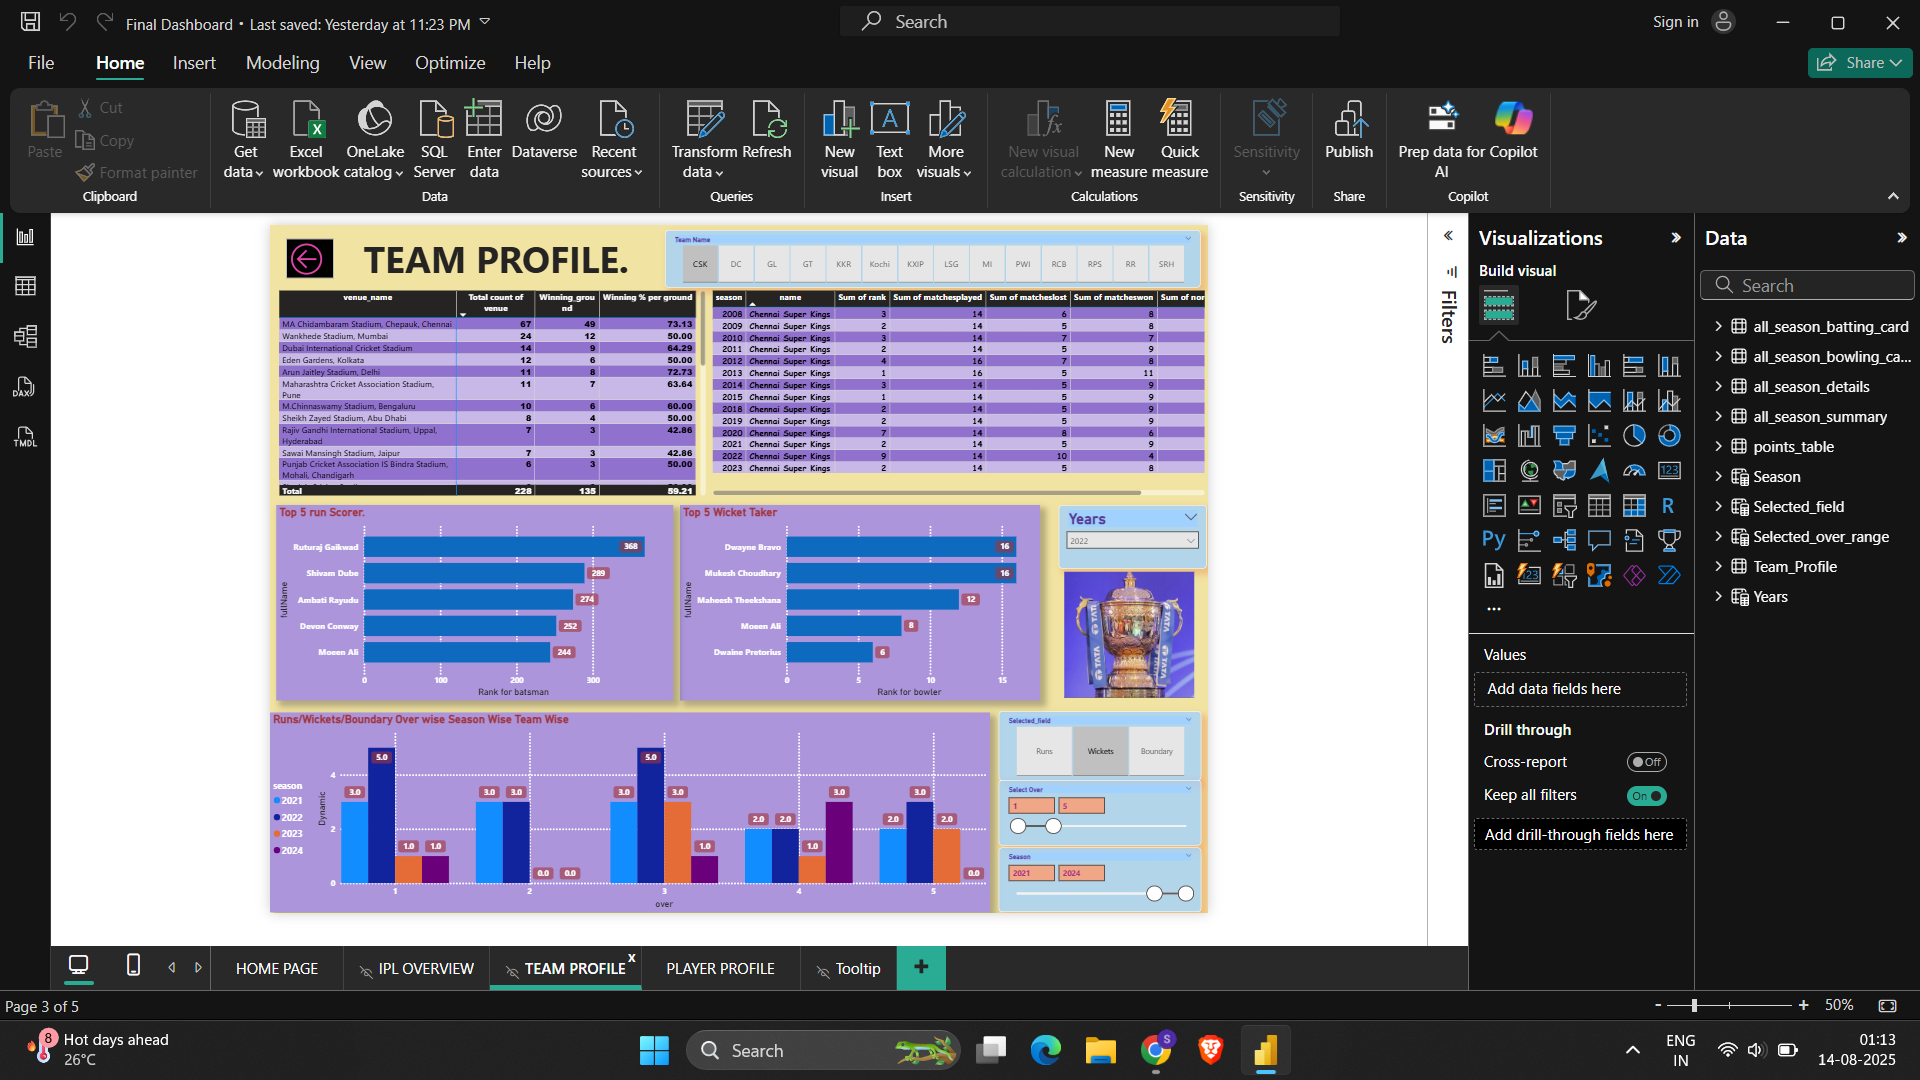

Layout of this report page (visuals, bound fields, positions):
{"tool":"powerbi","page":{"name":"TEAM PROFILE","canvas":[1500,1100],"ordinal":2},"visuals":[{"type":"textbox","box":[92.1,7.9,539.7,92.1],"z":0},{"type":"slicer","fields":{"Values":["points_table.short_name"]},"box":[631.7,7.9,857.1,92.1],"z":1000},{"type":"tableEx","fields":{"Values":["points_table.season","points_table.name","points_table.rank","points_table.matchesplayed","points_table.matcheslost","points_table.matcheswon","points_table.noresult","points_table.nrr"]},"box":[701.6,100,798.4,338.1],"z":2000},{"type":"clusteredColumnChart","title":"Runs/Wickets/Boundary Over wise Season Wise Team Wise","fields":{"Category":["Team_Profile.over"],"Y":["Team_Profile.Dynamic"],"Series":["Team_Profile.season"]},"box":[0,781,1152.4,319],"z":3000},{"type":"slicer","fields":{"Values":["Selected_field.Selected_field"]},"box":[1165.1,777.8,323.8,111.1],"z":4000},{"type":"slicer","fields":{"Values":["Selected_over_range.Selected_over_range"]},"box":[1165.1,888.9,323.8,104.8],"z":5000},{"type":"slicer","fields":{"Values":["Season.Season"]},"box":[1165.1,996.8,323.8,103.2],"z":6000},{"type":"pivotTable","fields":{"Rows":["all_season_summary.venue_name"],"Values":["all_season_summary.Total count of venue","all_season_summary.Winning_ground","all_season_summary.Winning % per ground"]},"box":[9.5,100,692.1,338.1],"z":7000},{"type":"actionButton","box":[25.4,22.2,76.2,63.5],"z":8000},{"type":"slicer","fields":{"Values":["Years.Years"]},"box":[1262.9,448.4,237.1,101.6],"z":9000},{"type":"clusteredBarChart","title":"Top 5 Wicket Taker","fields":{"Category":["all_season_bowling_card.fullName"],"Y":["all_season_bowling_card.Rank for bowler"]},"box":[656.5,448.4,575.8,312.9],"z":10000},{"type":"clusteredBarChart","title":"Top  5  run Scorer.","fields":{"Category":["all_season_batting_card.fullName"],"Y":["all_season_batting_card.Rank for batsman"]},"box":[10,448,635,313],"z":11000},{"type":"image","box":[1262.9,550,225.8,211.3],"z":12000}]}

Visuals, with their boxes on the page's 1500x1100 design canvas (x1, y1, x2, y2). These are canvas units, not pixel positions in the 1920x1080 screenshot, which may show the page scaled, cropped or inside an application window:
textbox: bbox=(92, 8, 632, 100)
slicer - points_table.short_name: bbox=(632, 8, 1489, 100)
tableEx - points_table.season x points_table.name: bbox=(702, 100, 1500, 438)
"Runs/Wickets/Boundary Over wise Season Wise Team Wise" clusteredColumnChart: bbox=(0, 781, 1152, 1100)
slicer - Selected_field.Selected_field: bbox=(1165, 778, 1489, 889)
slicer - Selected_over_range.Selected_over_range: bbox=(1165, 889, 1489, 994)
slicer - Season.Season: bbox=(1165, 997, 1489, 1100)
pivotTable - all_season_summary.venue_name x all_season_summary.Total count of venue: bbox=(10, 100, 702, 438)
actionButton: bbox=(25, 22, 102, 86)
slicer - Years.Years: bbox=(1263, 448, 1500, 550)
"Top 5 Wicket Taker" clusteredBarChart: bbox=(656, 448, 1232, 761)
"Top  5  run Scorer." clusteredBarChart: bbox=(10, 448, 645, 761)
image: bbox=(1263, 550, 1489, 761)
